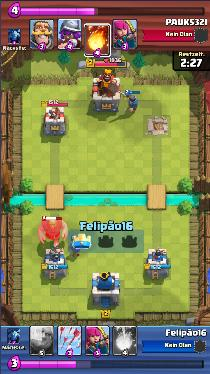ally_knight: (122, 93, 138, 111)
ally_musketeer: (68, 240, 80, 258)
enemy_giant: (37, 220, 67, 246)
